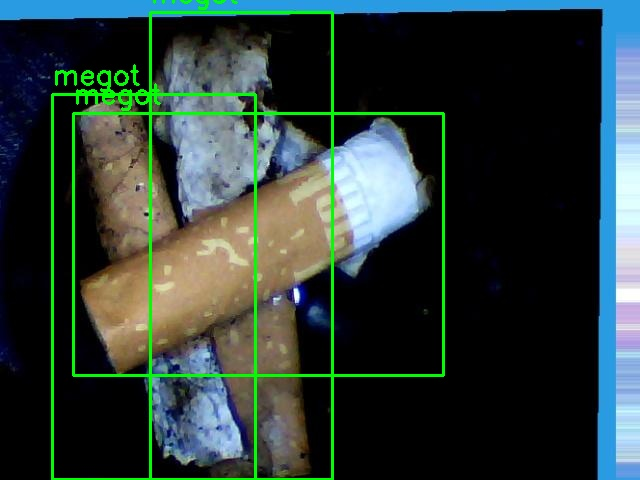megot: (73, 113, 443, 375), (150, 12, 332, 479), (52, 94, 255, 479)
